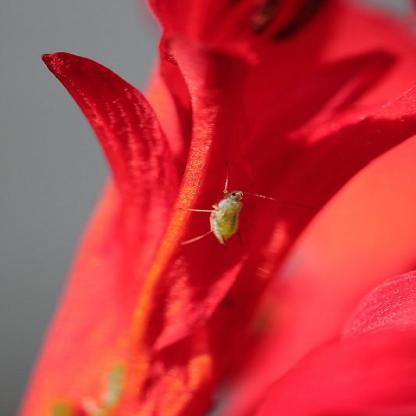aphid: (184, 182, 292, 258)
